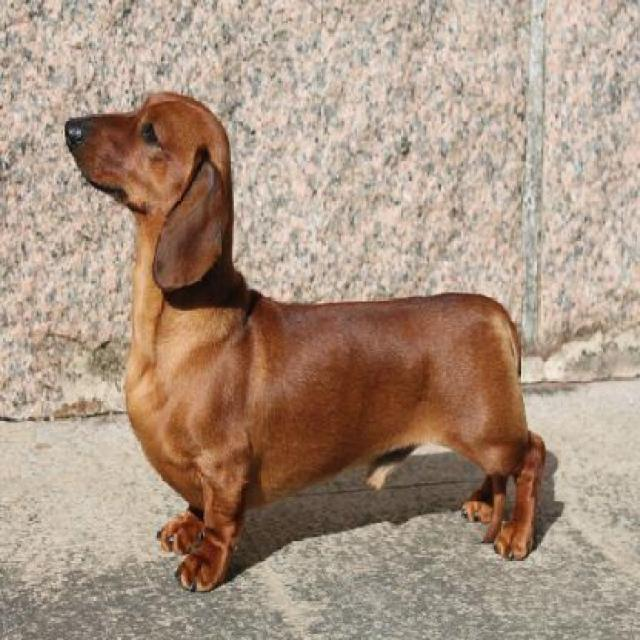Dog: (63, 88, 557, 603)
